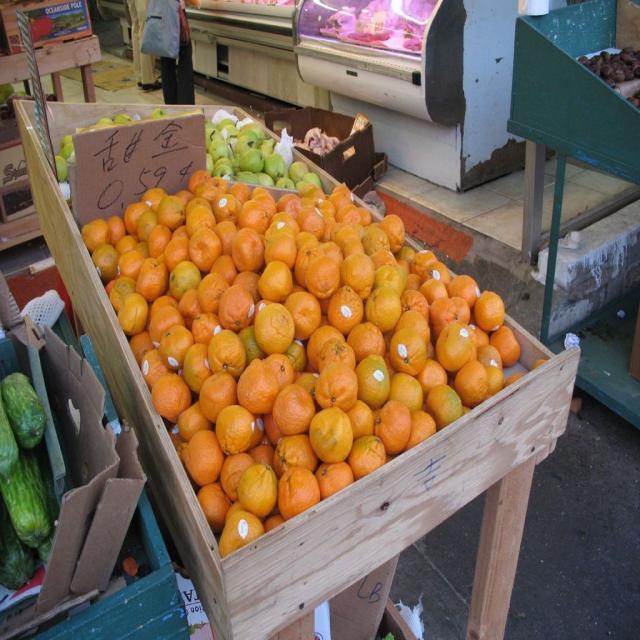Orange: (238, 357, 288, 411), (253, 302, 297, 356), (278, 464, 322, 514), (219, 513, 270, 555), (188, 434, 230, 484), (319, 357, 359, 408), (148, 372, 186, 424), (347, 435, 387, 481), (444, 324, 484, 370), (163, 321, 199, 372), (217, 404, 255, 452), (376, 400, 414, 448), (312, 462, 355, 501), (213, 331, 247, 379), (407, 409, 443, 454), (393, 328, 431, 369), (242, 465, 274, 513), (279, 384, 311, 432), (304, 319, 334, 369), (390, 364, 426, 405), (200, 378, 242, 412), (154, 302, 184, 348), (459, 358, 489, 404), (220, 286, 252, 328), (371, 284, 401, 328), (294, 292, 326, 332), (360, 354, 386, 402), (201, 267, 228, 312), (178, 408, 208, 448), (186, 341, 211, 389), (190, 225, 224, 259), (255, 259, 287, 295), (224, 454, 250, 498), (305, 258, 335, 296), (341, 253, 373, 288), (424, 388, 466, 414), (401, 305, 433, 339), (475, 293, 505, 329), (496, 326, 526, 362), (175, 258, 203, 296), (143, 342, 173, 376), (196, 486, 226, 520), (274, 230, 300, 269), (263, 354, 303, 378), (334, 285, 362, 319), (433, 291, 456, 332), (323, 415, 349, 450), (297, 213, 322, 249), (418, 359, 448, 389), (237, 233, 265, 265), (78, 215, 104, 249), (139, 262, 173, 288), (404, 289, 433, 319), (346, 328, 382, 352), (240, 199, 265, 233), (363, 223, 391, 253), (371, 248, 401, 276), (111, 276, 133, 312), (380, 216, 406, 246), (166, 236, 191, 267), (483, 362, 505, 396), (215, 196, 243, 222), (351, 401, 371, 437), (284, 435, 304, 470), (92, 246, 116, 275), (340, 233, 369, 257), (270, 209, 298, 233), (302, 236, 318, 278), (158, 196, 180, 226), (381, 265, 404, 293), (124, 203, 146, 232), (132, 296, 147, 338), (260, 445, 285, 470), (422, 280, 447, 305), (334, 183, 358, 209), (119, 252, 147, 273), (320, 335, 352, 353), (193, 312, 216, 336), (106, 219, 124, 249), (137, 210, 155, 240), (186, 205, 216, 223), (128, 334, 150, 358), (217, 252, 239, 276), (208, 173, 224, 205), (146, 184, 166, 209), (340, 206, 362, 228), (411, 255, 431, 279), (188, 170, 206, 196), (247, 209, 265, 233), (183, 286, 199, 312), (300, 192, 318, 214), (454, 296, 469, 322), (329, 214, 342, 243), (185, 197, 208, 213), (267, 513, 282, 537), (407, 275, 423, 297), (317, 200, 331, 225), (230, 180, 243, 204), (277, 192, 295, 208), (253, 190, 269, 206), (455, 280, 473, 292), (130, 246, 150, 256), (121, 239, 135, 250)
